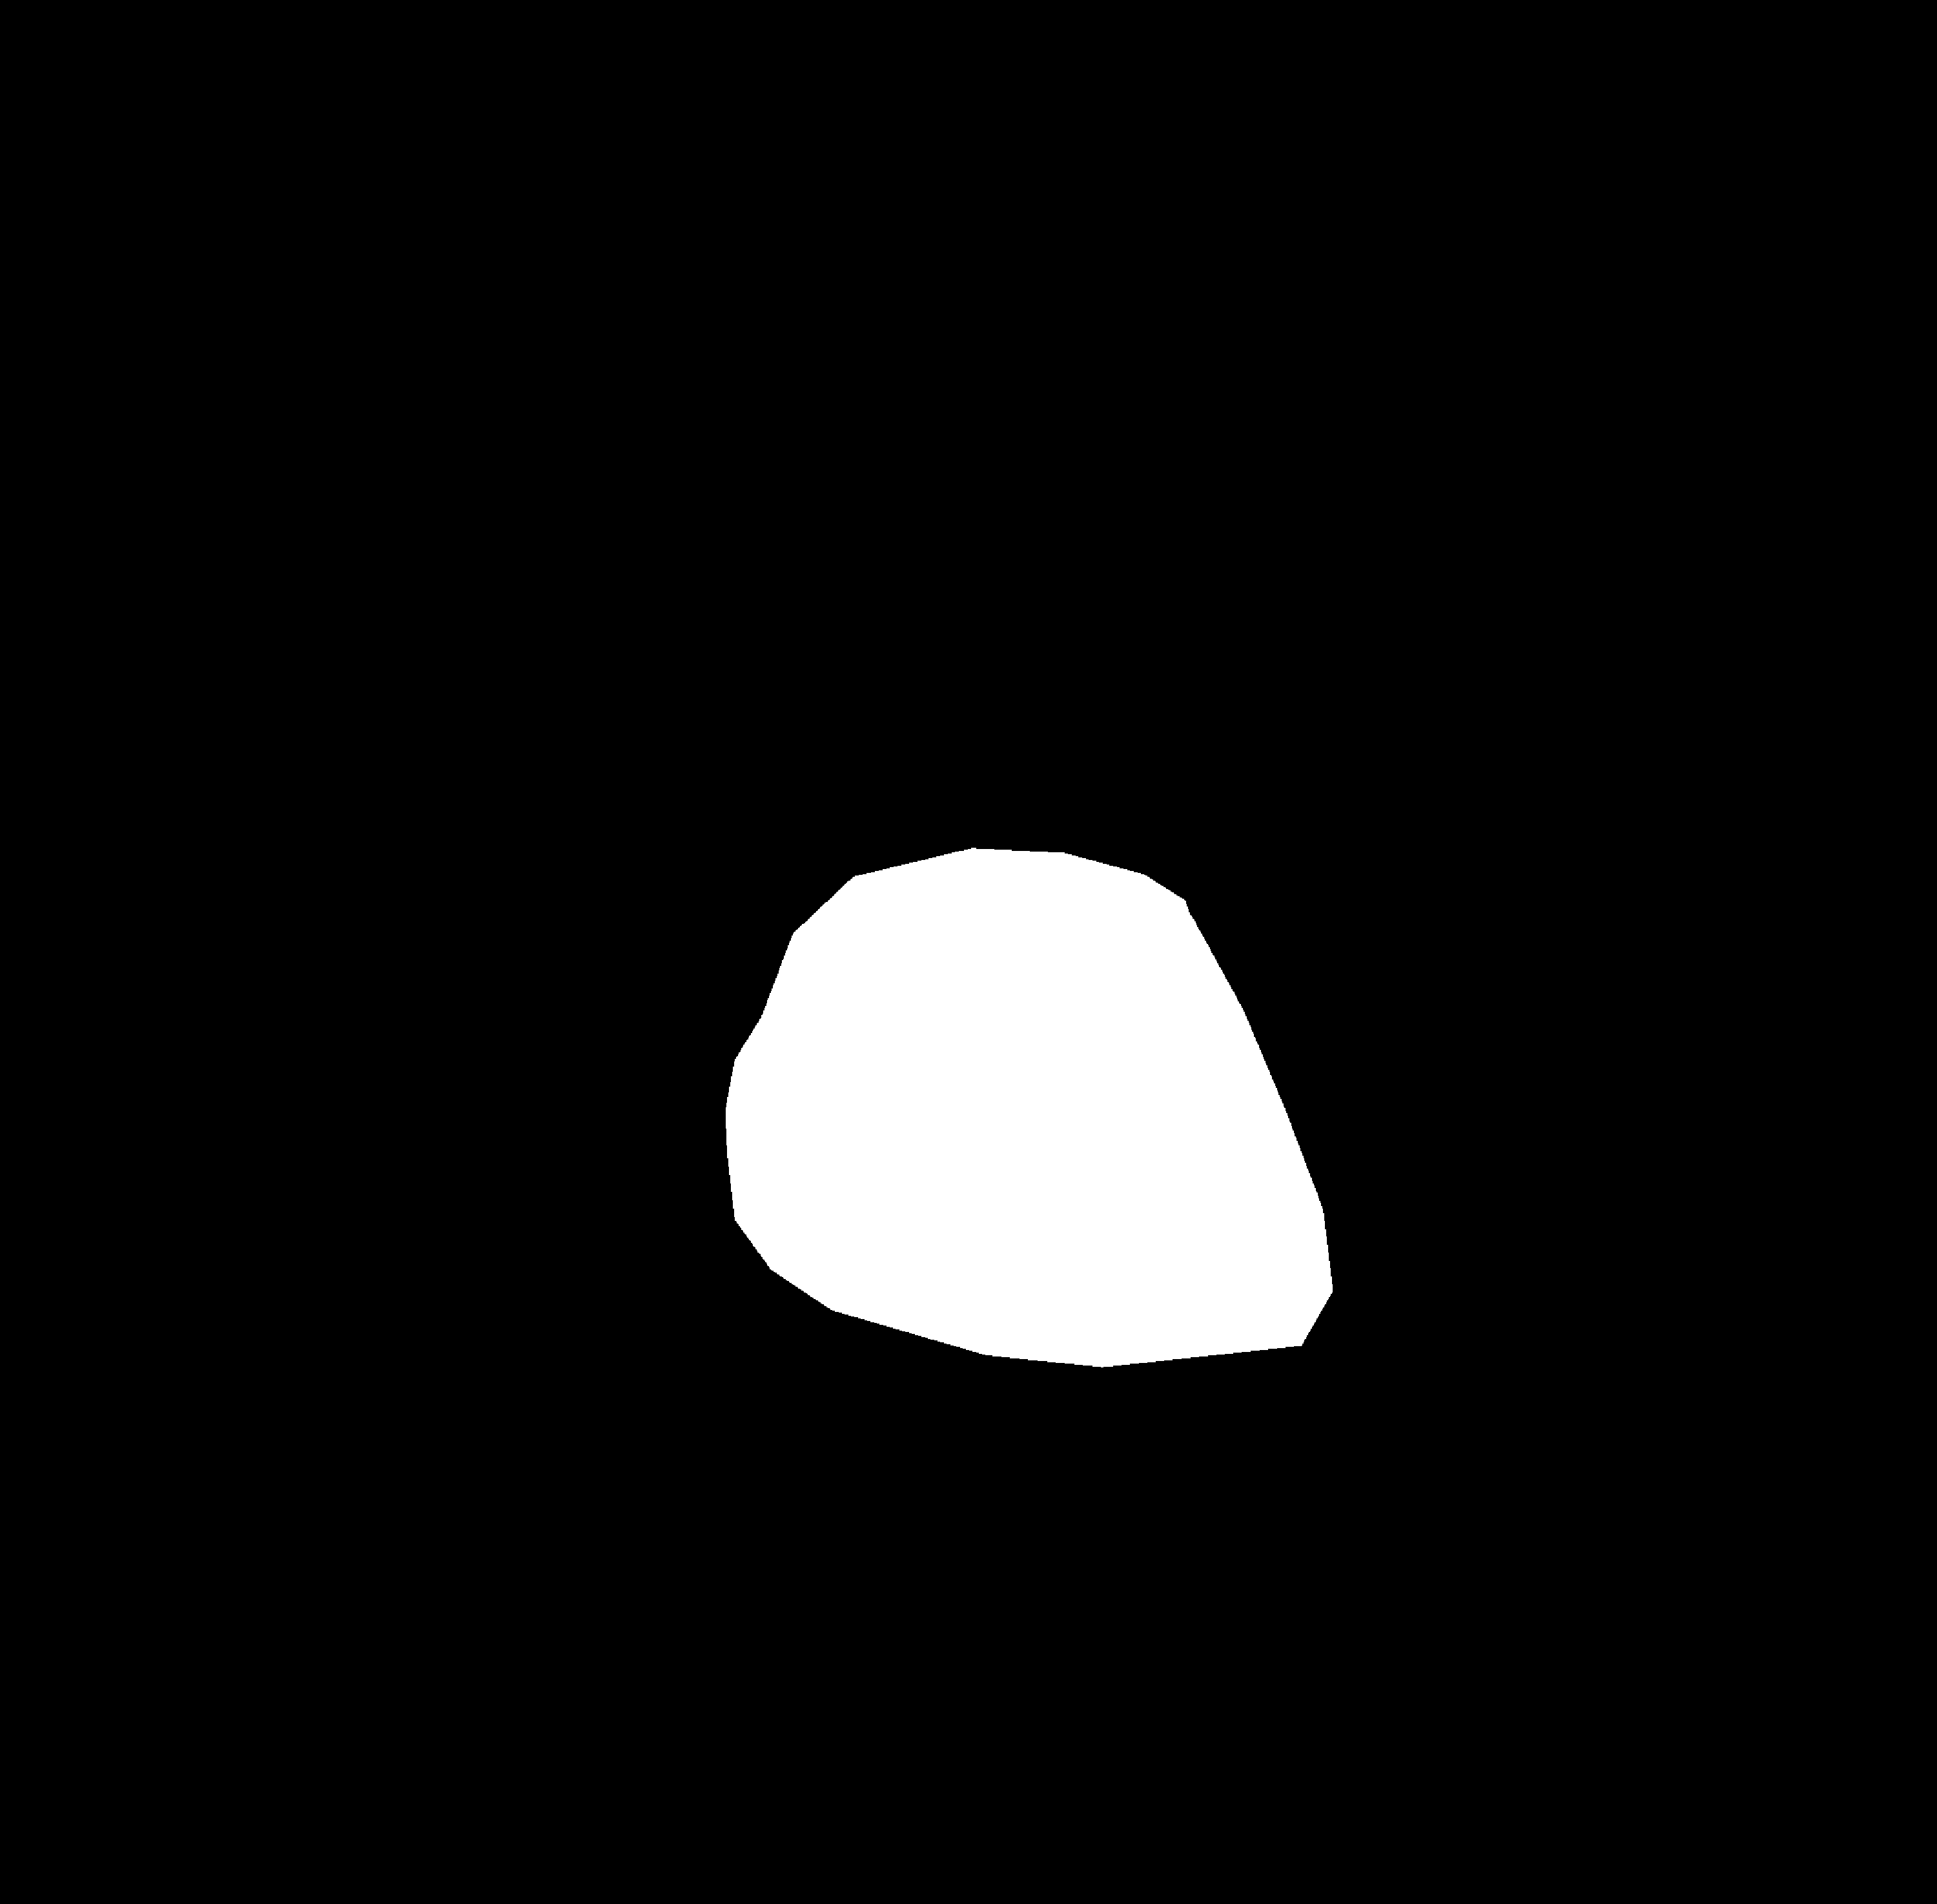heart: (727, 931, 1337, 1374)
left_lung: (307, 314, 884, 1444)
right_lung: (1032, 312, 1475, 1489)
